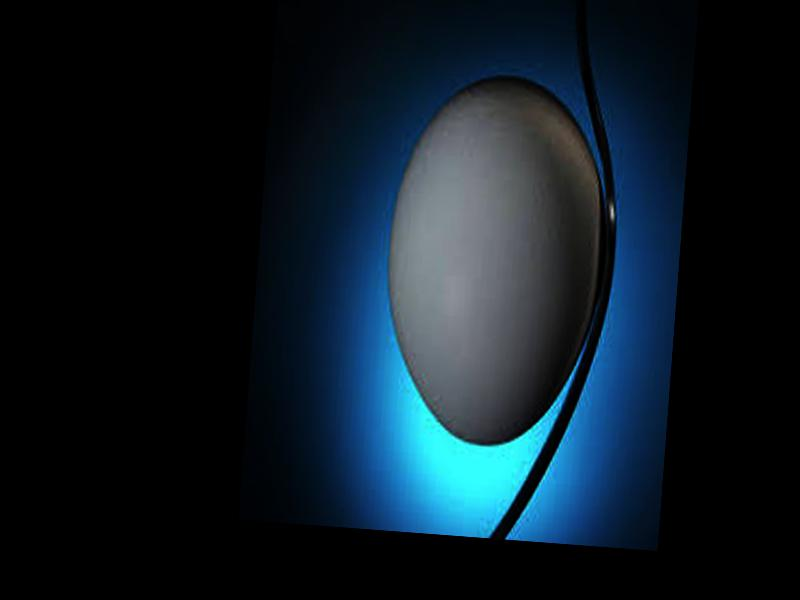Eggs: (378, 69, 614, 452)
